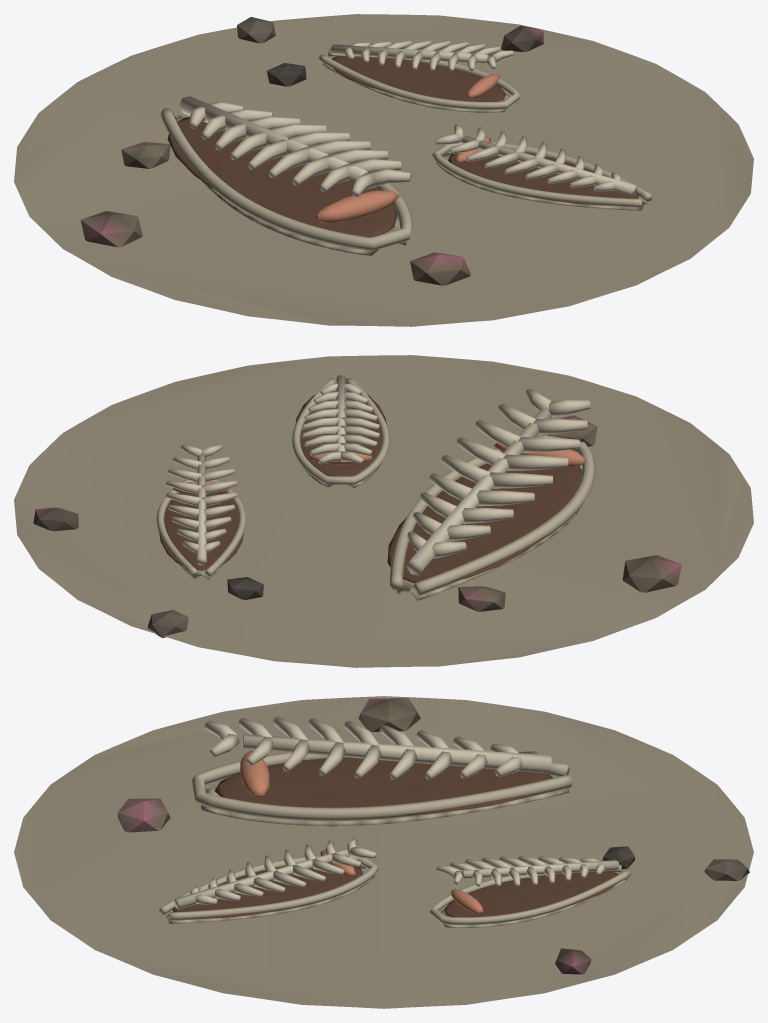
The model's file is Leptodus.fbx.
3 views of the same model, one above another, from view 1: azimuth 30°, elevation 25°; view 2: azimuth 150°, elevation 25°; view 3: azimuth 270°, elevation 25° (orthographic).
Visible parts, largest first — view 1: Leptodus; view 2: Leptodus; view 3: Leptodus.
Part boxes in pixels (bbox=[...]): Leptodus: bbox=[14, 14, 753, 326]; Leptodus: bbox=[14, 355, 753, 667]; Leptodus: bbox=[14, 696, 753, 1008].
Size of the model in its own units: 1.9 by 0.2529 by 1.9.
